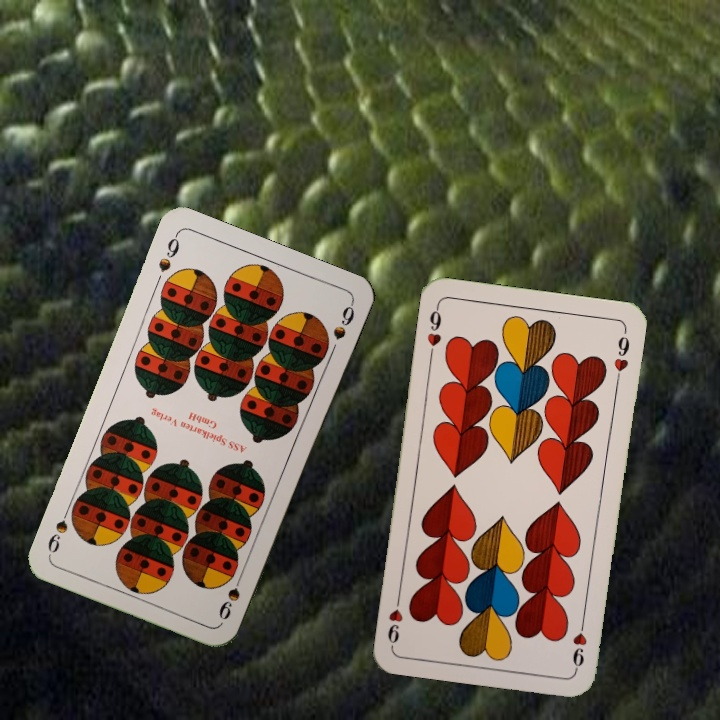H9: (568, 613, 590, 672), (423, 301, 444, 360)
S9: (214, 567, 246, 622), (154, 229, 182, 275)
